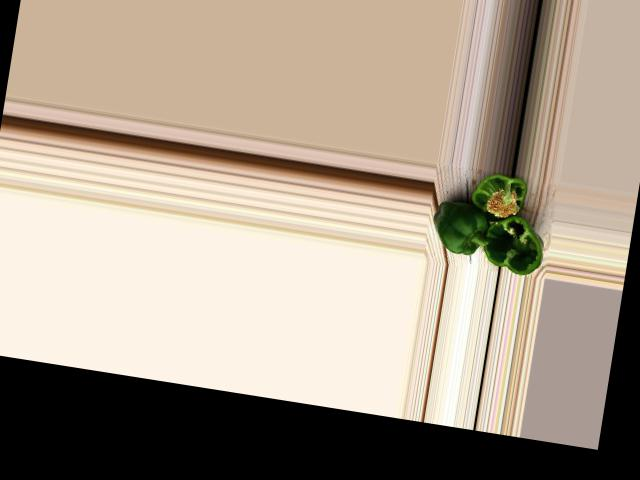bell_pepper: (464, 170, 539, 226)
